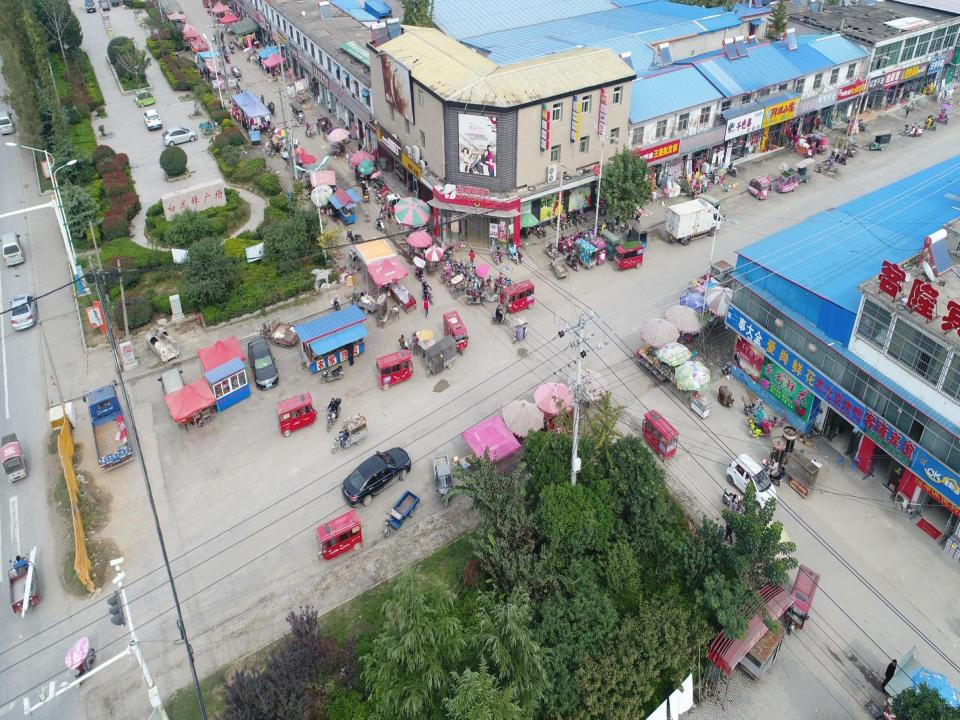car: (342, 447, 412, 506), (726, 452, 778, 512), (157, 366, 190, 422), (247, 336, 279, 391), (8, 291, 40, 330), (160, 125, 198, 147), (142, 107, 163, 132), (722, 488, 744, 511)
truck: (82, 378, 134, 474), (687, 259, 737, 294)
van: (0, 229, 25, 267), (0, 109, 17, 135)
